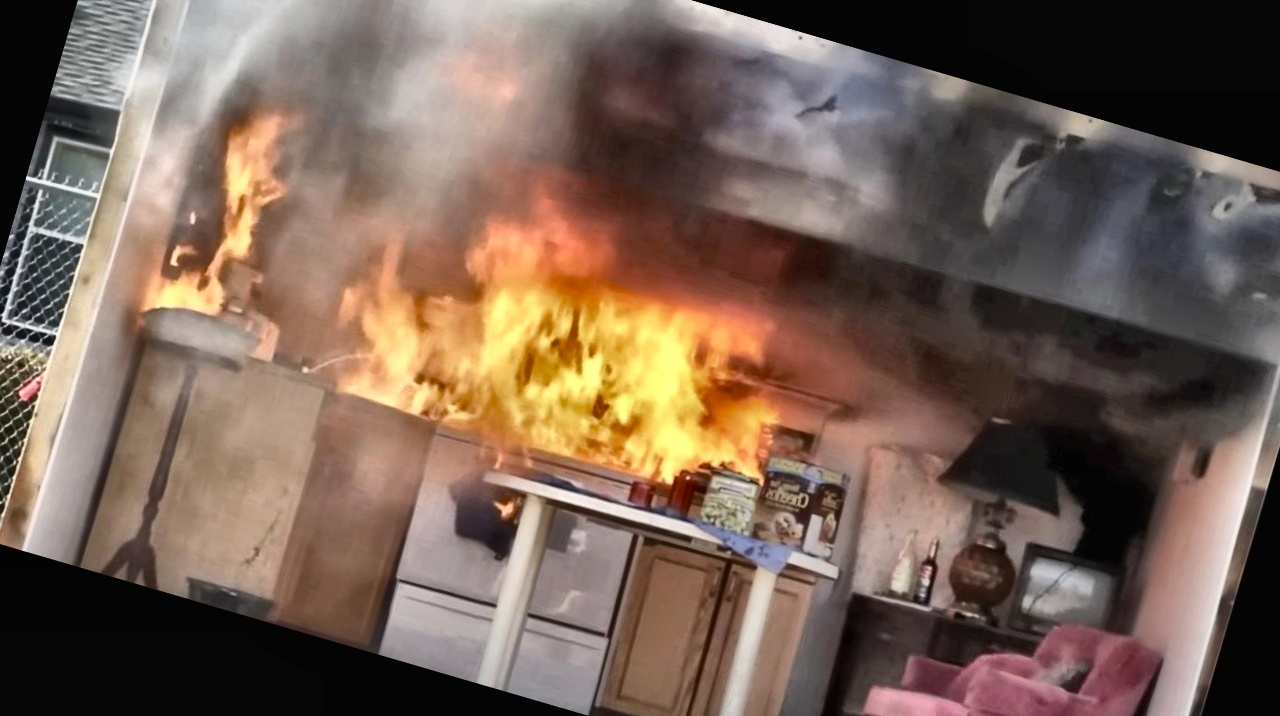fire: (96, 89, 836, 563)
